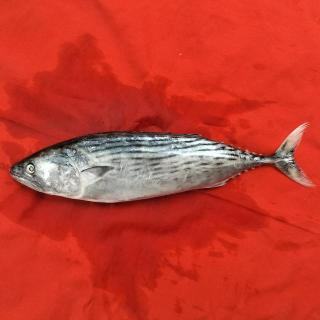Ikan: (10, 124, 311, 216)
